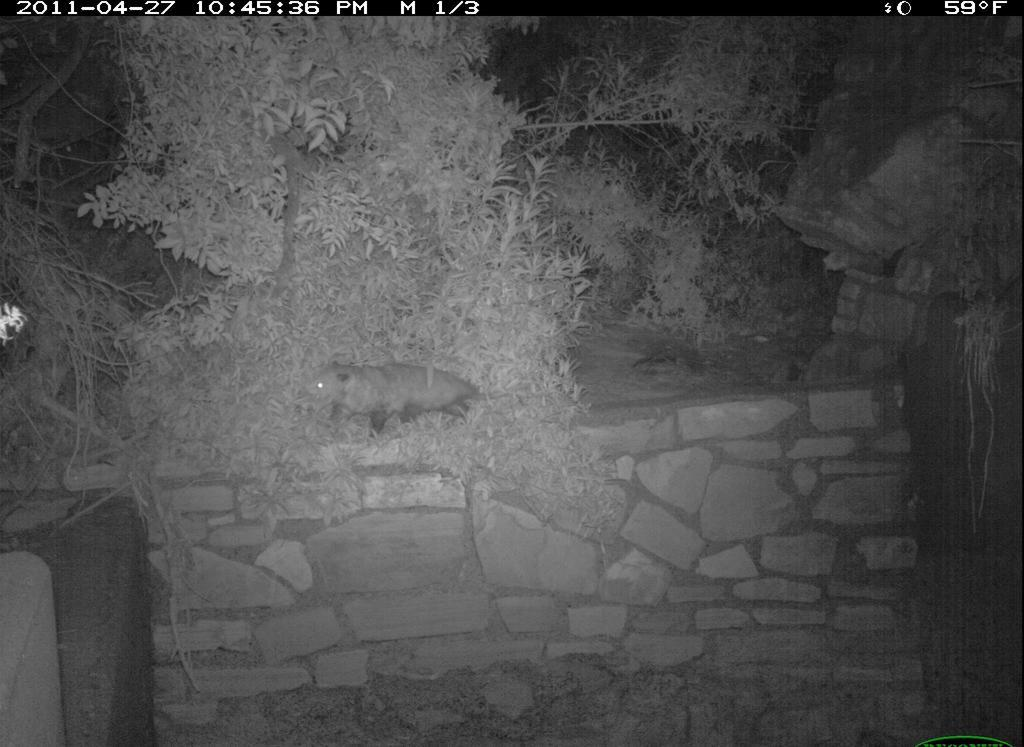opossum: (300, 355, 530, 443)
